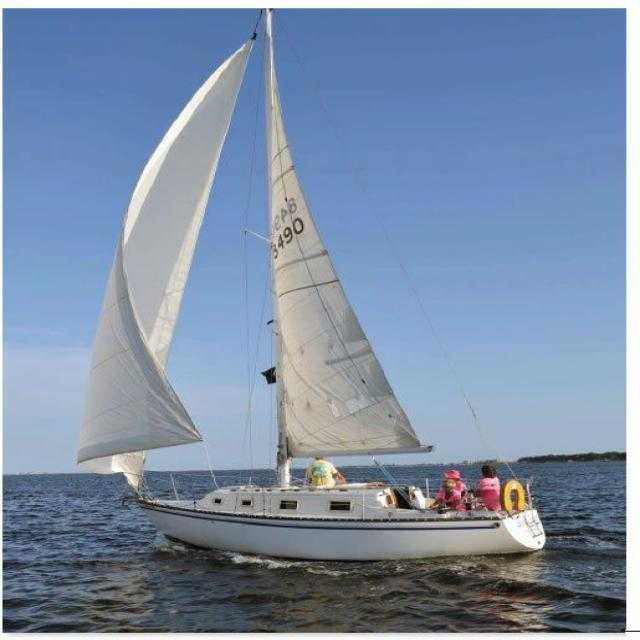boat: (75, 12, 567, 569)
